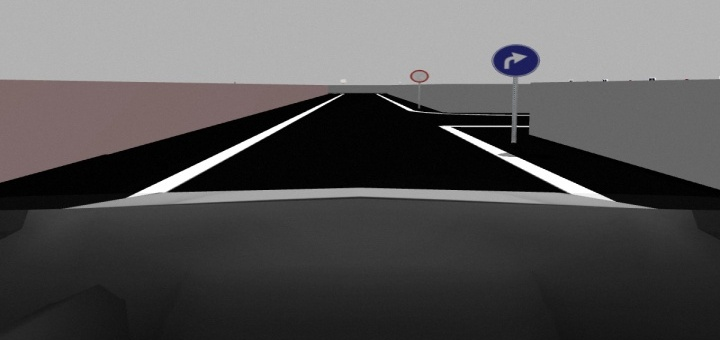girilmez: (410, 68, 431, 84)
saga_don: (492, 43, 540, 76)
